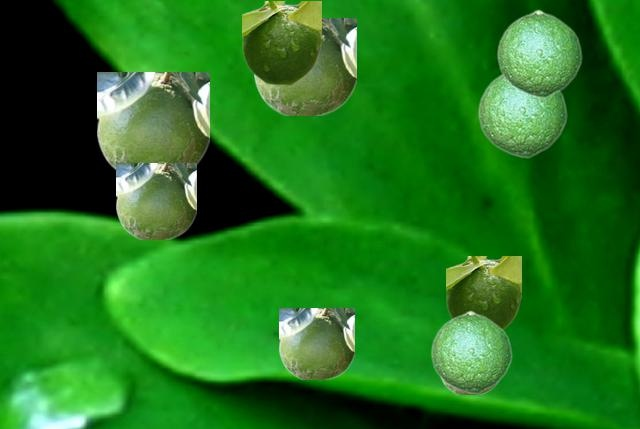dalandan: (97, 72, 208, 170), (254, 18, 355, 114), (496, 9, 581, 97), (477, 74, 566, 157), (430, 310, 511, 393), (242, 1, 320, 84), (116, 163, 195, 238), (446, 256, 520, 329), (279, 308, 353, 378), (441, 380, 495, 393)
